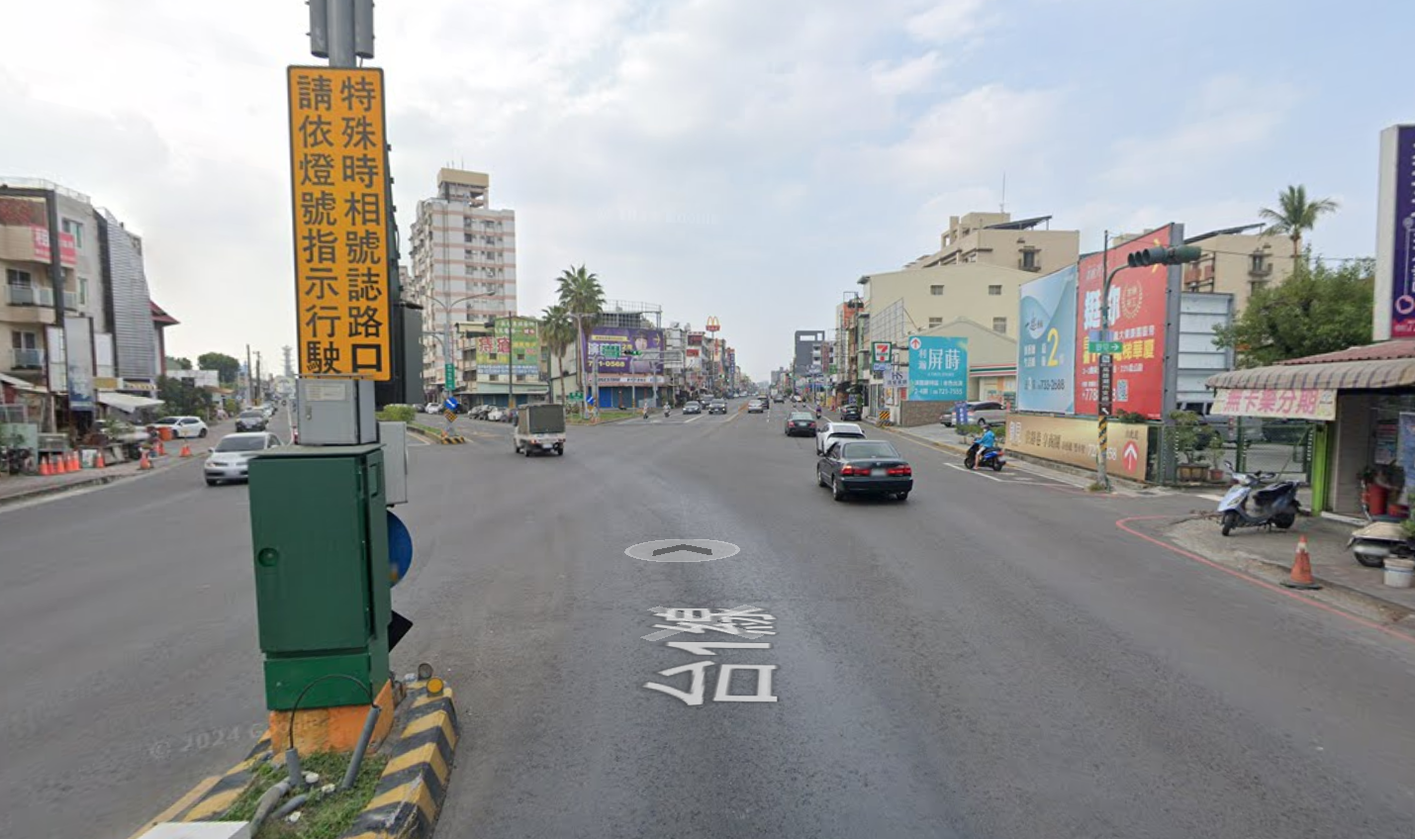green: (621, 345, 645, 360)
